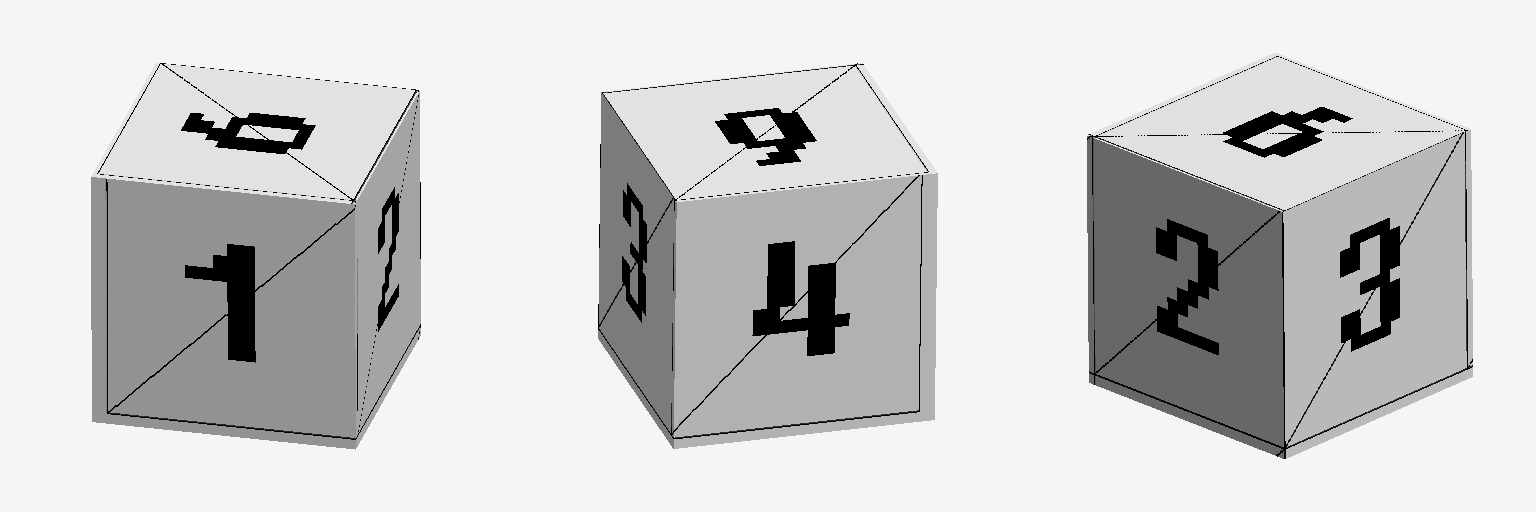
3 renders of one model, left to right at view 1: azimuth 30°, elevation 25°; view 2: azimuth 150°, elevation 25°; view 3: azimuth 270°, elevation 25°, orthographic.
Visible parts, largest first — view 1: Würfel; view 2: Würfel; view 3: Würfel.
Boxes of the visible parts, box(x1,y1,x2,y2) form: Würfel: box(91, 62, 420, 449); Würfel: box(598, 63, 937, 448); Würfel: box(1087, 53, 1472, 458).
Bounding box in the file's own units: 2.84 × 2.02 × 2.84.
1 materials, 1 textured.